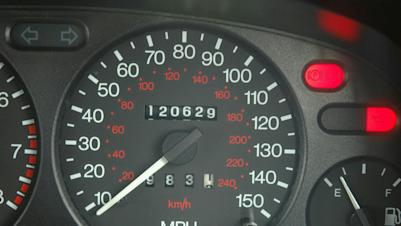0: (170, 106, 180, 117)
1: (148, 105, 153, 116)
2: (194, 106, 204, 118), (158, 106, 168, 117)
6: (182, 106, 192, 118)
9: (206, 107, 215, 119)
odometer: (144, 104, 217, 121)
